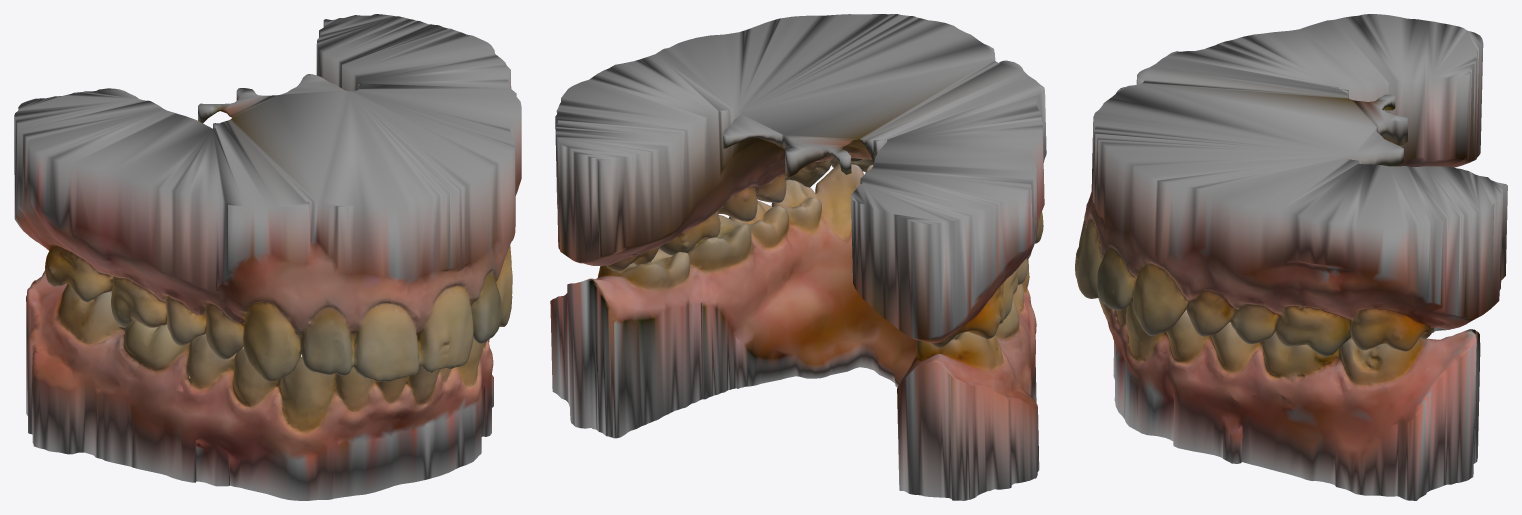
Rendered from Teeth.glb.
3 renders of one model, left to right at view 1: azimuth 30°, elevation 25°; view 2: azimuth 150°, elevation 25°; view 3: azimuth 270°, elevation 25°, orthographic. The views are drawn at different scales.
Visible parts, largest first — view 1: TeethUpper, TeethLower; view 2: TeethUpper, TeethLower; view 3: TeethUpper, TeethLower.
Part boxes in pixels (x1,y1,x2,y2): TeethUpper: (14,14,521,382); TeethLower: (26,270,493,500); TeethUpper: (555,14,1046,348); TeethLower: (550,163,1039,500); TeethUpper: (1075,14,1507,356); TeethLower: (1098,298,1480,500).
Bounding box in the file's own units: 0.0743 × 0.0461 × 0.0641.
